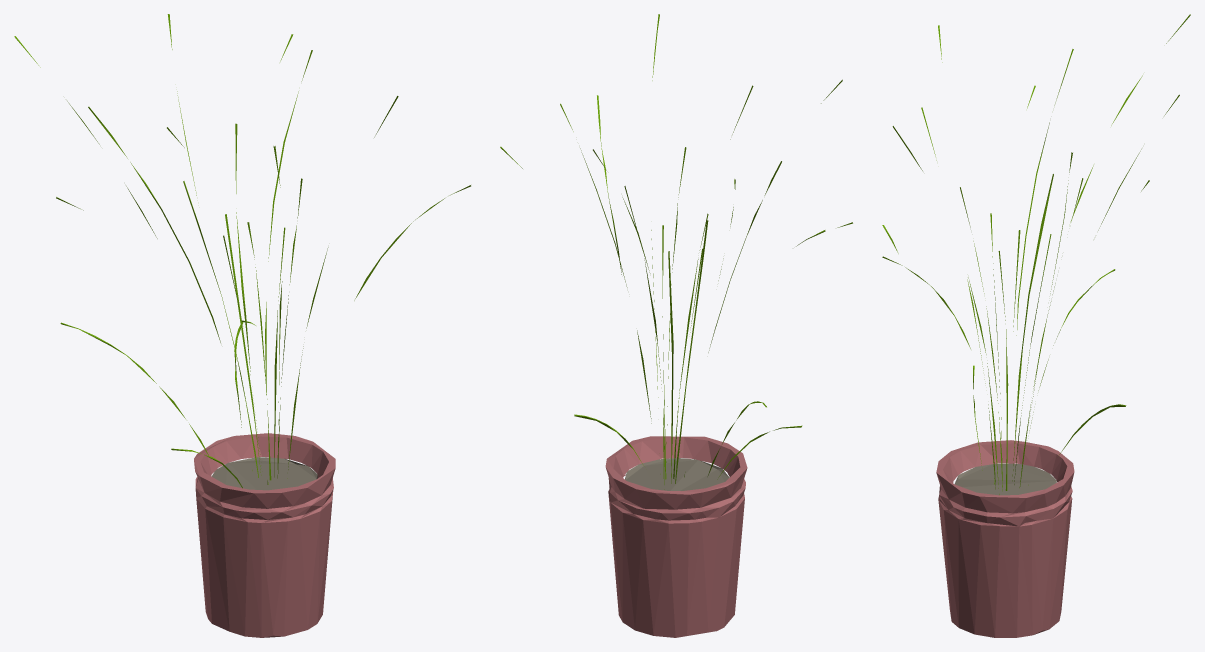
Rendered from bush_plant_3.glb.
3 renders of one model, left to right at view 1: azimuth 30°, elevation 25°; view 2: azimuth 150°, elevation 25°; view 3: azimuth 270°, elevation 25°, orthographic. The views are drawn at different scales.
Parts seen in each view (by area): view 1: Circle, plant_Mesh.001; view 2: Circle, plant_Mesh.001; view 3: Circle, plant_Mesh.001.
Boxes of the visible parts, box(x1,y1,x2,y2) form: Circle: box(194, 433, 335, 637); plant_Mesh.001: box(14, 14, 470, 488); Circle: box(605, 436, 747, 637); plant_Mesh.001: box(500, 14, 852, 489); Circle: box(936, 440, 1074, 637); plant_Mesh.001: box(882, 14, 1190, 494).
Size of the model in its own units: 0.7363 by 1.14 by 0.6033.
